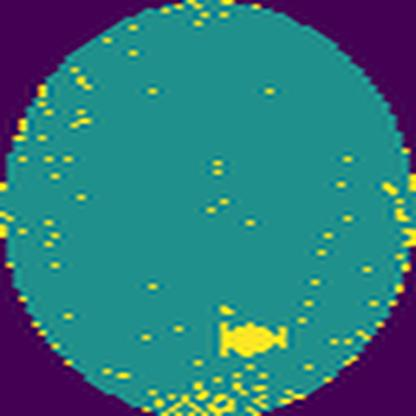Loc: (217, 316, 291, 360)
